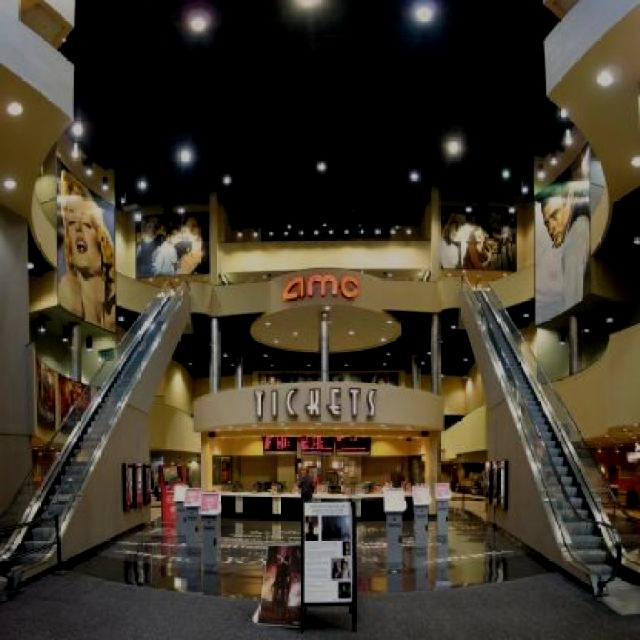stair: (0, 292, 189, 591), (461, 284, 640, 598)
